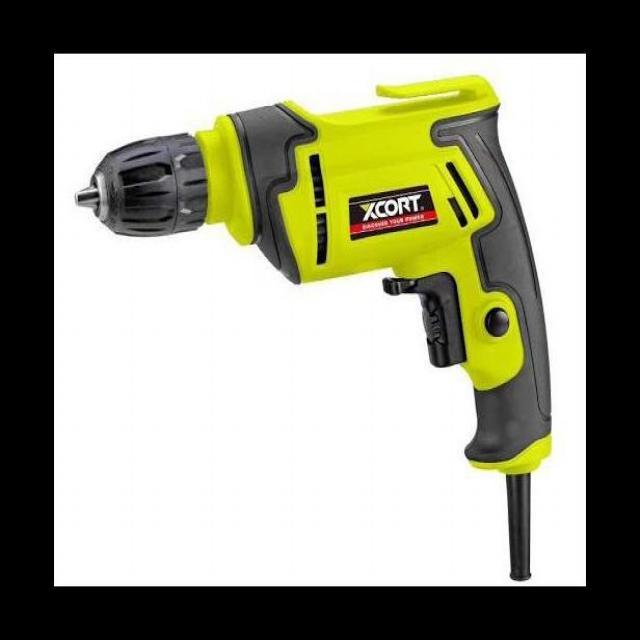drill: (76, 74, 554, 582)
